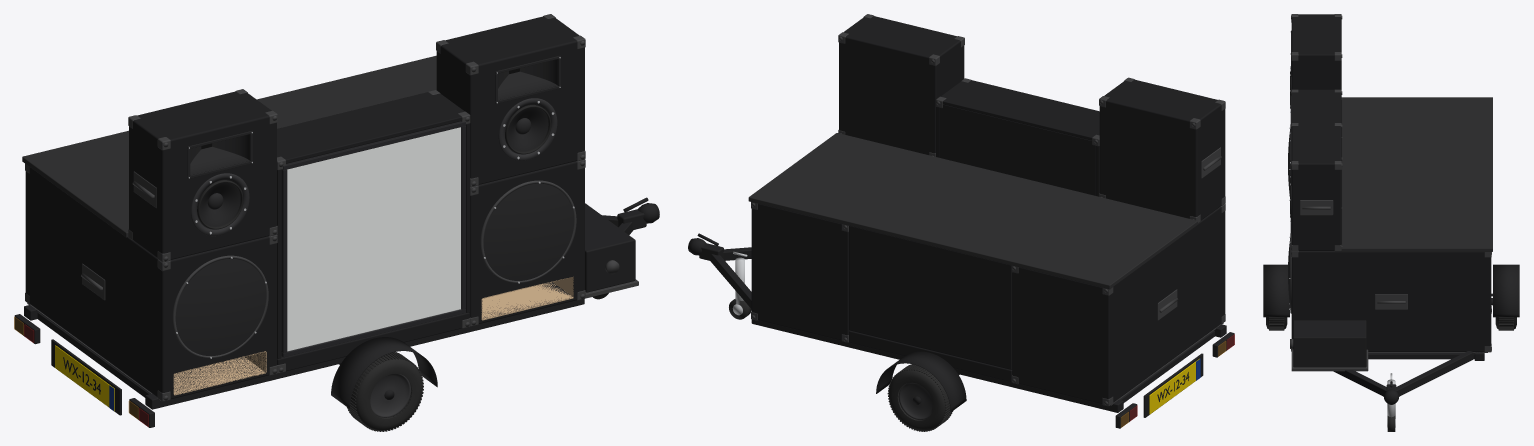
File: speaker_trailer_90.glb
The picture shows the model from 3 angles, left to right: view 1: azimuth 30°, elevation 25°; view 2: azimuth 150°, elevation 25°; view 3: azimuth 270°, elevation 25°; orthographic projection. The views are drawn at different scales.
Parts seen in each view (by area): view 1: panel_front_glass, panel_front_film, L_sub, L_top, R_top, desk_top, R_sub_grille, L_sub_grille, R_sub, C_top_plate, fog_machine, tyre (+23 smaller); view 2: desk_top, L_sub, C_rear, L_top, R_top, R_sub, C_back, C_top_plate, tyre.001, chassis_rail.001, mudguard.001, C_plinth (+4 smaller); view 3: desk_top, R_sub, R_top, L_top, fog_machine, C_top_plate, mudguard.001, mudguard, drawbar.001, chassis_cross.002, drawbar, R_top_handle_out_dish (+2 smaller).
Part boxes in pixels (x1,y1,x2,y2): panel_front_glass: [287, 127, 460, 351]; panel_front_film: [287, 127, 460, 350]; L_sub: [25, 167, 276, 398]; L_top: [129, 91, 276, 259]; R_top: [436, 16, 584, 184]; desk_top: [22, 55, 436, 237]; R_sub_grille: [483, 183, 573, 280]; L_sub_grille: [175, 258, 266, 355]; R_sub: [469, 161, 584, 323]; C_top_plate: [277, 92, 464, 163]; fog_machine: [585, 203, 635, 292]; tyre: [350, 353, 422, 430]; desk_top: [748, 133, 1197, 289]; L_sub: [1012, 206, 1225, 403]; C_rear: [849, 226, 1012, 369]; L_top: [1099, 79, 1225, 220]; R_top: [839, 16, 964, 154]; R_sub: [751, 203, 849, 340]; C_back: [939, 104, 1095, 195]; C_top_plate: [941, 80, 1099, 140]; tyre.001: [888, 365, 949, 430]; chassis_rail.001: [751, 319, 1123, 412]; mudguard.001: [876, 351, 966, 411]; C_plinth: [849, 330, 1012, 381]; desk_top: [1341, 97, 1492, 251]; R_sub: [1291, 251, 1491, 351]; R_top: [1291, 123, 1341, 250]; L_top: [1291, 14, 1341, 89]; fog_machine: [1293, 320, 1366, 367]; C_top_plate: [1291, 89, 1341, 123]; mudguard.001: [1493, 264, 1519, 317]; mudguard: [1263, 264, 1289, 317]; drawbar.001: [1396, 351, 1473, 396]; chassis_cross.002: [1368, 353, 1474, 359]; drawbar: [1333, 370, 1386, 396]; R_top_handle_out_dish: [1300, 200, 1333, 215].
Size of the model in its own units: 2.9 by 1.59 by 1.54.
